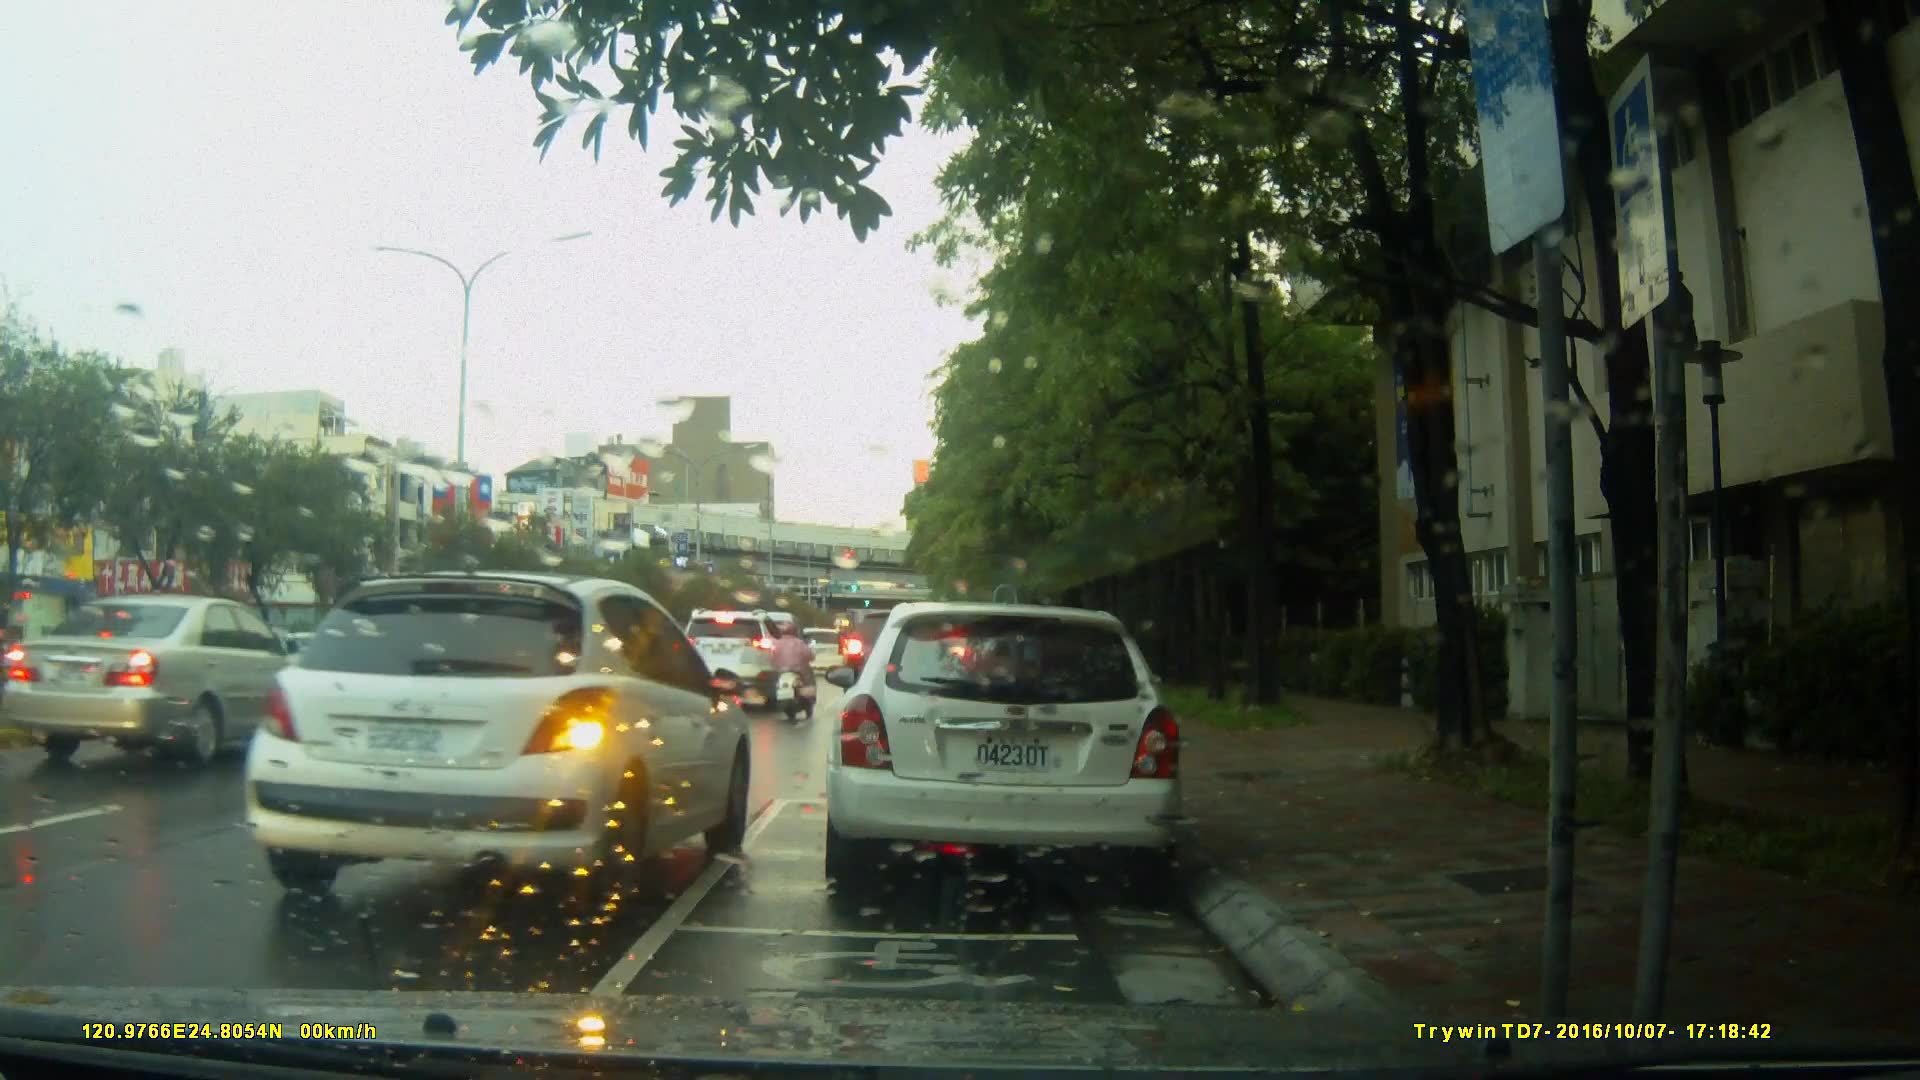rider: (766, 614, 812, 725)
vehicle: (236, 568, 756, 915), (820, 602, 1188, 898), (10, 592, 348, 773), (674, 609, 792, 710)
